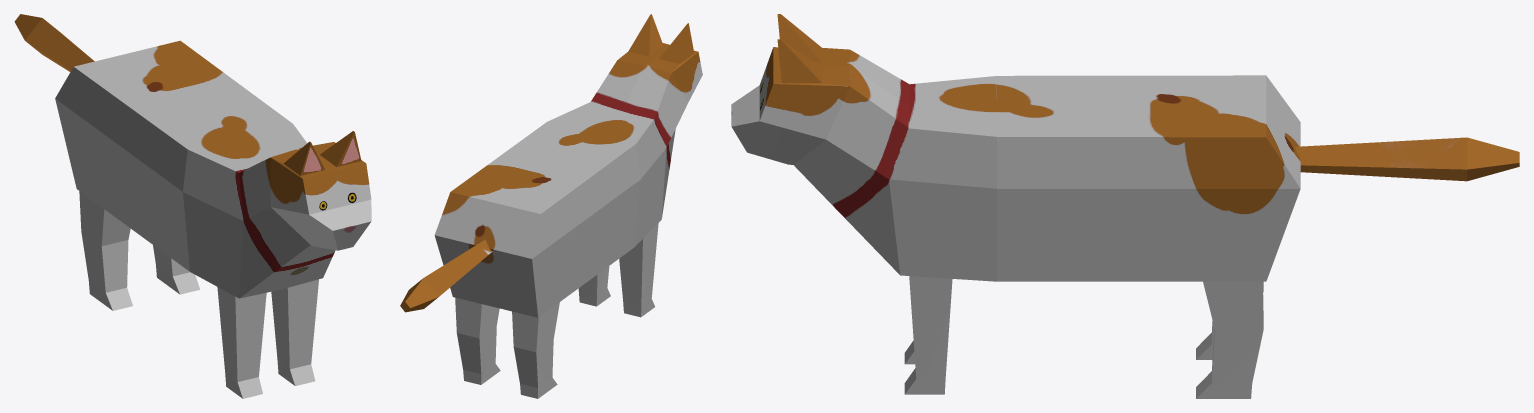
File: Cat_Textured.fbx
3 views of the same model, side by side, from view 1: azimuth 30°, elevation 25°; view 2: azimuth 150°, elevation 25°; view 3: azimuth 270°, elevation 25° (orthographic). The views are drawn at different scales.
Parts seen in each view (by area): view 1: Body.001, Back Leg_R.001, Front Leg_R.001, Front Leg_L.001, Tail.001, Ears.001, Back Leg_L.001; view 2: Body.001, Back Leg_R.001, Back Leg_L.001, Front Leg_R.001, Tail.001, Ears.001, Front Leg_L.001; view 3: Body.001, Tail.001, Back Leg_L.001, Front Leg_L.001, Ears.001.
Boxes of the visible parts, x1,y1,x2,y2 form: Body.001: [55, 40, 371, 298]; Back Leg_R.001: [79, 191, 132, 310]; Front Leg_R.001: [217, 287, 266, 398]; Front Leg_L.001: [271, 279, 318, 385]; Tail.001: [14, 14, 94, 71]; Ears.001: [284, 131, 361, 175]; Back Leg_L.001: [153, 245, 199, 294]; Body.001: [434, 43, 702, 317]; Back Leg_R.001: [512, 302, 559, 398]; Back Leg_L.001: [455, 297, 500, 384]; Front Leg_R.001: [619, 223, 658, 317]; Tail.001: [400, 239, 492, 312]; Ears.001: [628, 14, 694, 63]; Front Leg_L.001: [578, 266, 610, 306]; Body.001: [731, 47, 1300, 281]; Tail.001: [1295, 137, 1519, 181]; Back Leg_L.001: [1196, 281, 1263, 398]; Front Leg_L.001: [904, 276, 952, 394]; Ears.001: [777, 14, 822, 83].
Size of the model in its own units: 0.8987 by 2.18 by 4.49.
